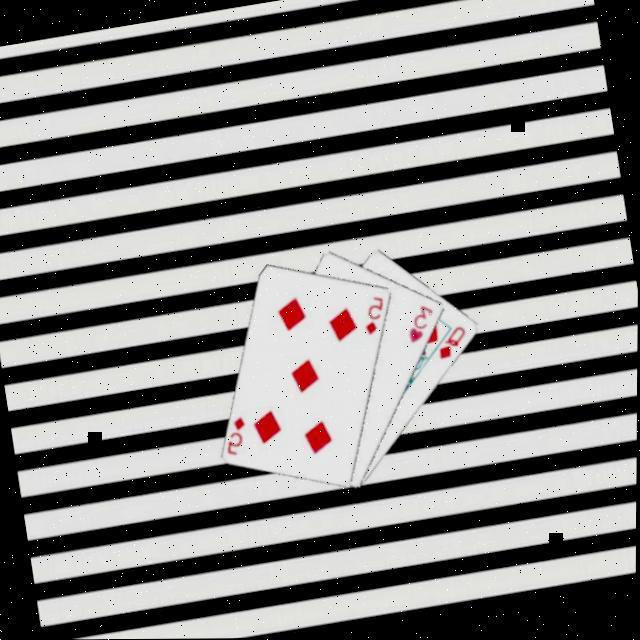3H: (403, 302, 441, 348)
5D: (220, 413, 255, 461), (359, 293, 393, 340)
QD: (434, 324, 474, 365)
